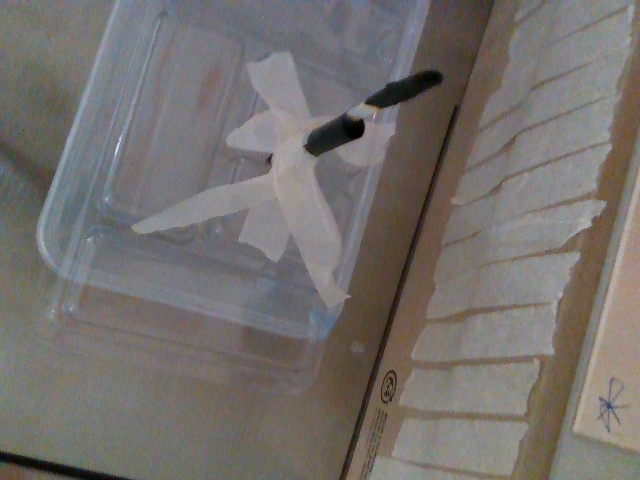test_strip: (348, 67, 445, 122)
